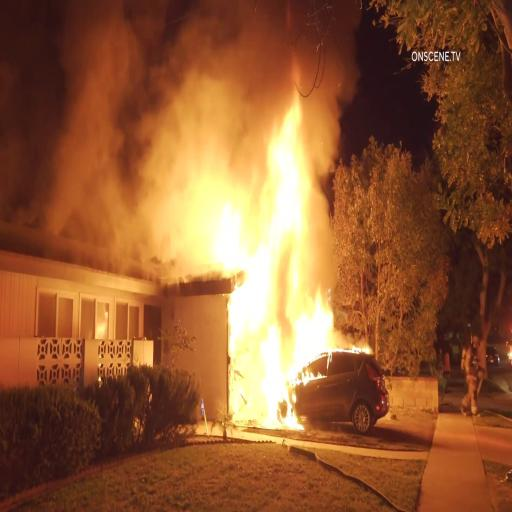fire: (212, 83, 309, 423), (183, 150, 238, 263), (312, 256, 340, 358)
smoke: (4, 3, 176, 254), (0, 0, 209, 146), (178, 2, 378, 82)
